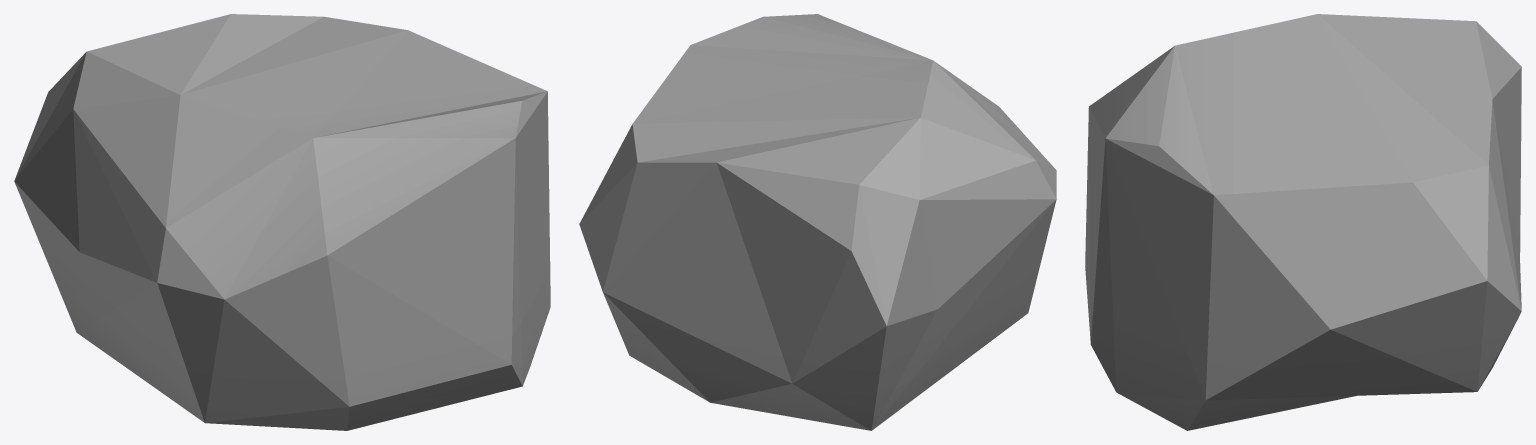
The model's file is Rock 01.FBX.
The picture shows the model from 3 angles, left to right: view 1: azimuth 30°, elevation 25°; view 2: azimuth 150°, elevation 25°; view 3: azimuth 270°, elevation 25°; orthographic projection. The views are drawn at different scales.
Visible parts, largest first — view 1: Box001; view 2: Box001; view 3: Box001.
Boxes of the visible parts, x1,y1,x2,y2 form: Box001: (14, 14, 550, 430); Box001: (579, 14, 1056, 430); Box001: (1085, 14, 1521, 430).
Bounding box in the file's own units: 26.09 × 17.39 × 23.72.
